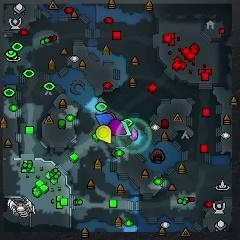p1: (95, 114, 112, 125)
p2: (121, 120, 131, 137)
p3: (109, 120, 126, 136)
p4: (96, 125, 112, 144)
p5: (106, 112, 115, 119)
